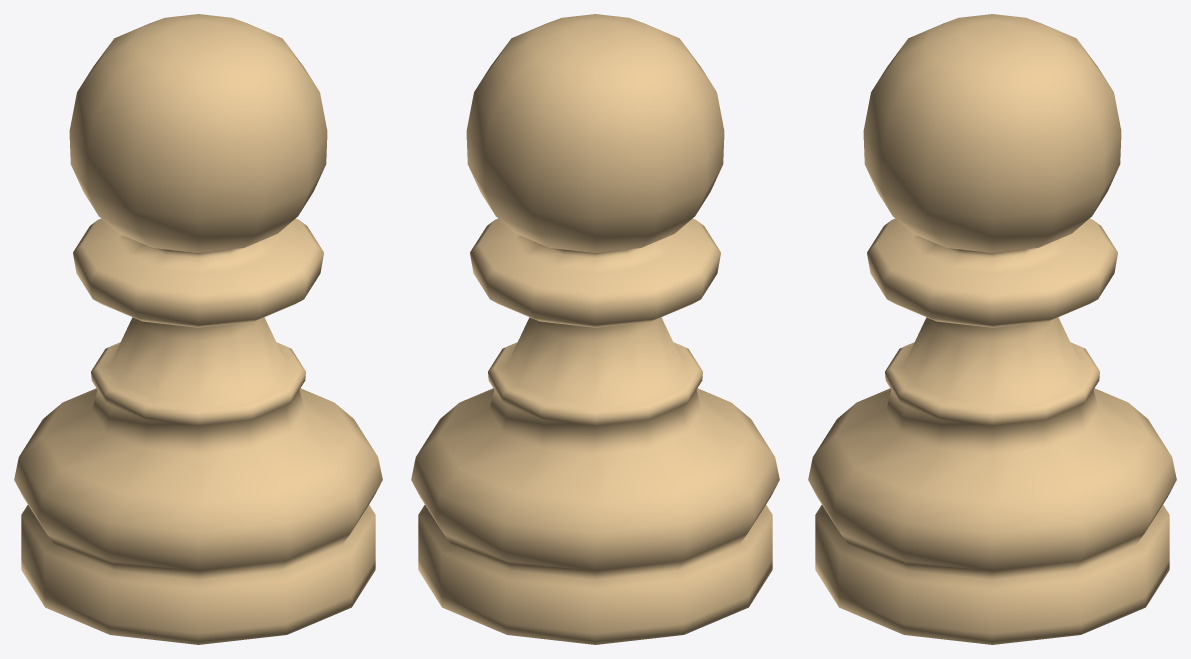
The model's file is white_pawn.gltf.
3 views of the same model, side by side, from view 1: azimuth 30°, elevation 25°; view 2: azimuth 150°, elevation 25°; view 3: azimuth 270°, elevation 25° (orthographic).
Visible parts, largest first — view 1: pawn; view 2: pawn; view 3: pawn.
Part boxes in pixels (left/top/right/bottom): pawn: left=14, top=14, right=382, bottom=644; pawn: left=411, top=14, right=779, bottom=644; pawn: left=808, top=14, right=1176, bottom=644.
Bounding box in the file's own units: 11.27 × 18.07 × 11.27.
